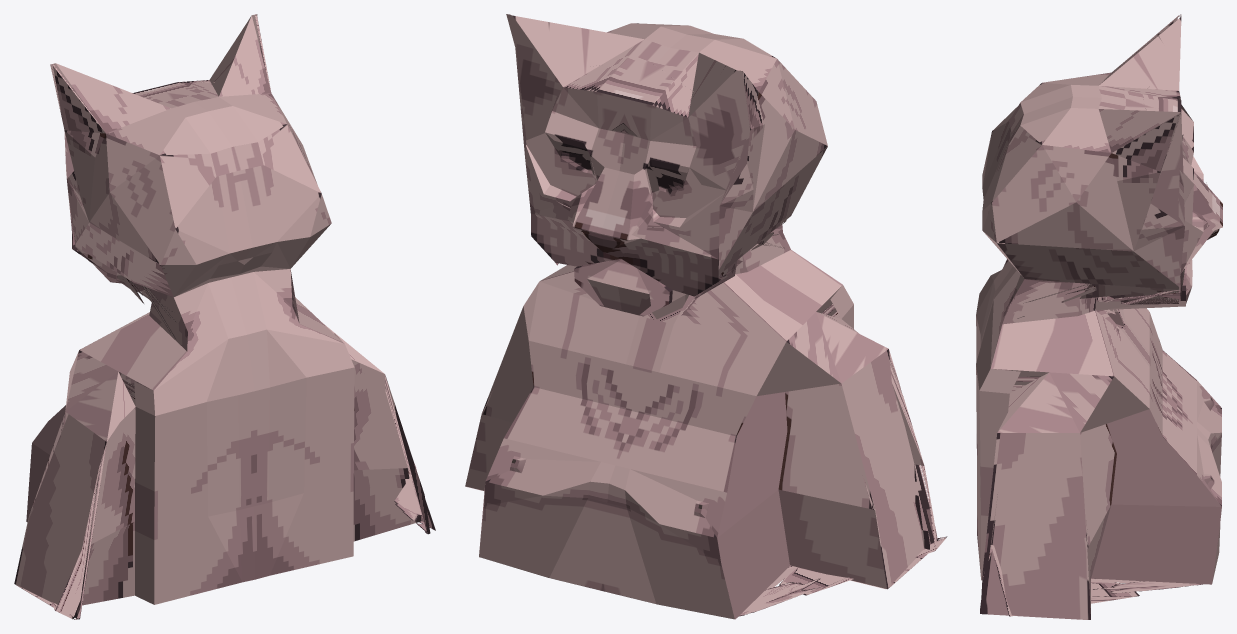
The model's file is BoldCat3.fbx.
The picture shows the model from 3 angles, left to right: view 1: azimuth 30°, elevation 25°; view 2: azimuth 150°, elevation 25°; view 3: azimuth 270°, elevation 25°; orthographic projection. The views are drawn at different scales.
Parts seen in each view (by area): view 1: Cube.002; view 2: Cube.002; view 3: Cube.002.
Boxes of the visible parts, x1,y1,x2,y2 form: Cube.002: (14,14,435,619); Cube.002: (465,14,947,619); Cube.002: (976,14,1222,619).
Size of the model in its own units: 116 by 201 by 243.
Materials: 2 (2 with a texture image).
